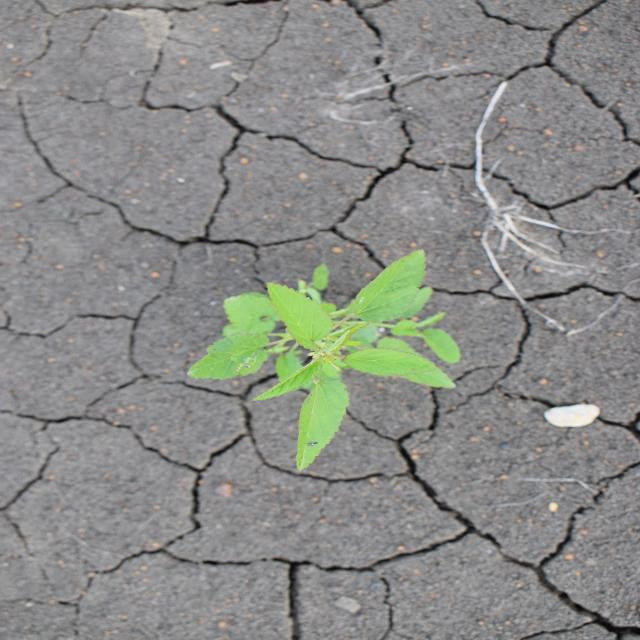PricklySida: (184, 247, 466, 472)
